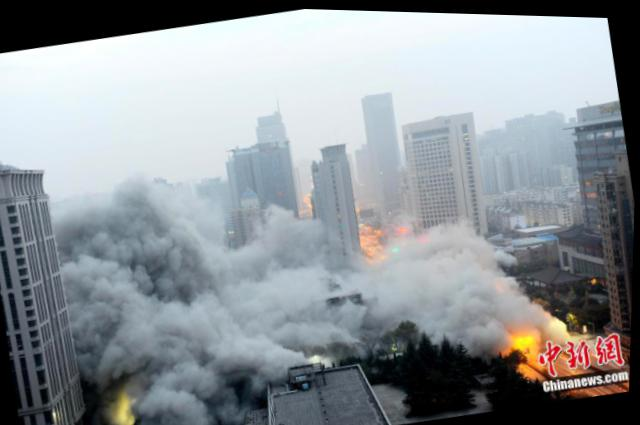fire: (507, 326, 538, 348)
